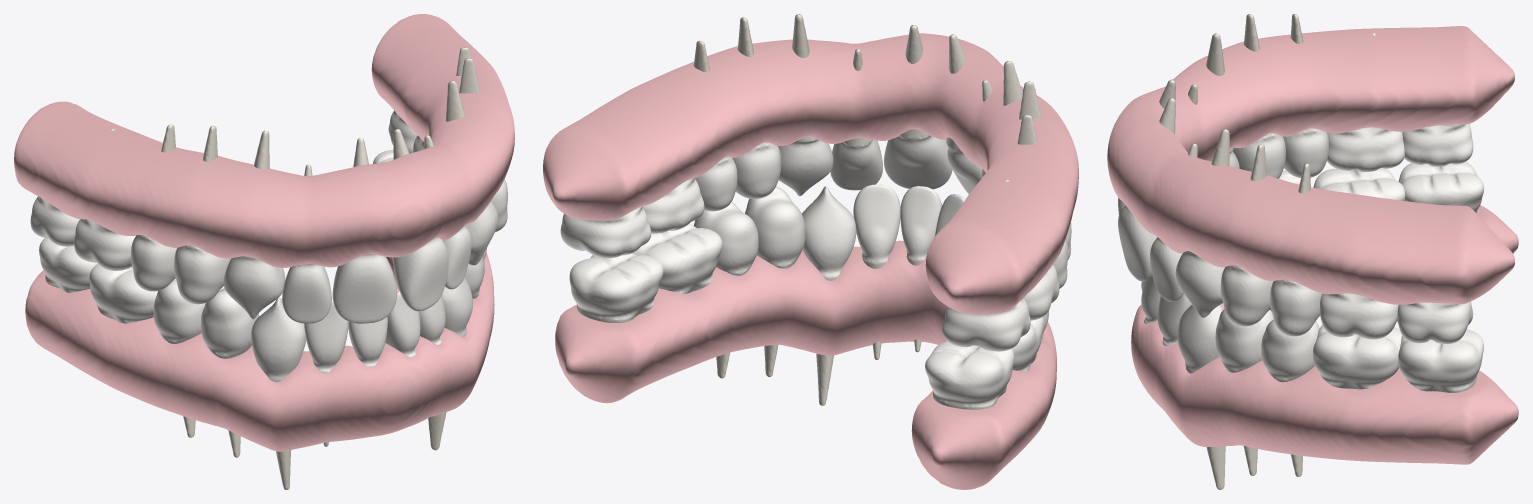
Rendered from mouth.glb.
3 renders of one model, left to right at view 1: azimuth 30°, elevation 25°; view 2: azimuth 150°, elevation 25°; view 3: azimuth 270°, elevation 25°, orthographic. The views are drawn at different scales.
Parts seen in each view (by area): view 1: gum-upper#q, gum-lower#q, incisor-crown#q (×8), premolar-crown#q (×4), molar-crown#q (×5), canine-crown#q (×4), canine-root#q, premolar-root#q; view 2: gum-upper#q, gum-lower#q, molar-crown#q (×8), incisor-crown#q (×6), premolar-crown#q (×4), canine-crown#q (×2), canine-root#q (×3), incisor-root#q (×2), premolar-root#q; view 3: gum-upper#q, gum-lower#q, molar-crown#q (×8), premolar-crown#q (×6), incisor-crown#q (×4), canine-crown#q (×2), canine-root#q (×3), premolar-root#q (×2).
Boxes of the visible parts, left/top/right/bottom form: gum-upper#q: left=14, top=14, right=514, bottom=267; gum-lower#q: left=25, top=253, right=494, bottom=451; incisor-crown#q (×8): left=282, top=226, right=471, bottom=372; premolar-crown#q (×4): left=131, top=235, right=259, bottom=357; molar-crown#q (×5): left=30, top=110, right=417, bottom=323; canine-crown#q (×4): left=223, top=200, right=498, bottom=382; canine-root#q: left=446, top=80, right=464, bottom=121; premolar-root#q: left=459, top=58, right=479, bottom=93; gum-upper#q: left=543, top=33, right=1078, bottom=314; gum-lower#q: left=555, top=240, right=1056, bottom=489; molar-crown#q (×8): left=560, top=178, right=1059, bottom=407; incisor-crown#q (×6): left=830, top=134, right=982, bottom=264; premolar-crown#q (×4): left=693, top=143, right=805, bottom=275; canine-crown#q (×2): left=778, top=138, right=856, bottom=279; canine-root#q (×3): left=792, top=14, right=1022, bottom=405; incisor-root#q (×2): left=901, top=25, right=965, bottom=149; premolar-root#q: left=1019, top=81, right=1041, bottom=119; gum-upper#q: left=1107, top=26, right=1514, bottom=304; gum-lower#q: left=1131, top=205, right=1518, bottom=464; molar-crown#q (×8): left=1313, top=123, right=1483, bottom=392; premolar-crown#q (×6): left=1215, top=129, right=1328, bottom=381; incisor-crown#q (×4): left=1118, top=205, right=1191, bottom=345; canine-crown#q (×2): left=1175, top=251, right=1224, bottom=373; canine-root#q (×3): left=1206, top=33, right=1233, bottom=489; premolar-root#q (×2): left=1235, top=14, right=1273, bottom=267.
Bounding box in the file's own units: 66.26 × 51.7 × 51.88.
